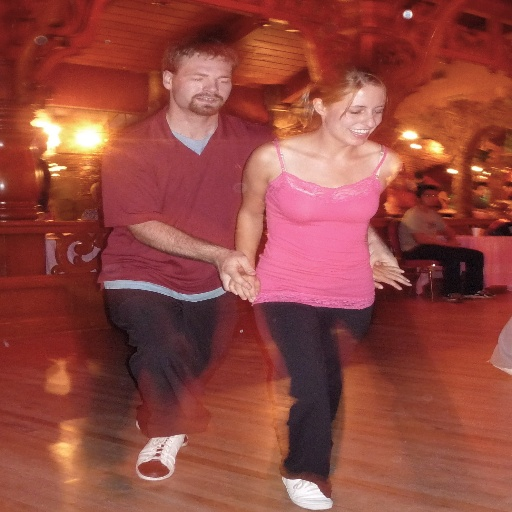hand: (207, 248, 262, 295), (369, 263, 413, 290), (227, 270, 260, 301), (369, 247, 400, 267), (448, 240, 457, 248), (452, 238, 459, 244)
